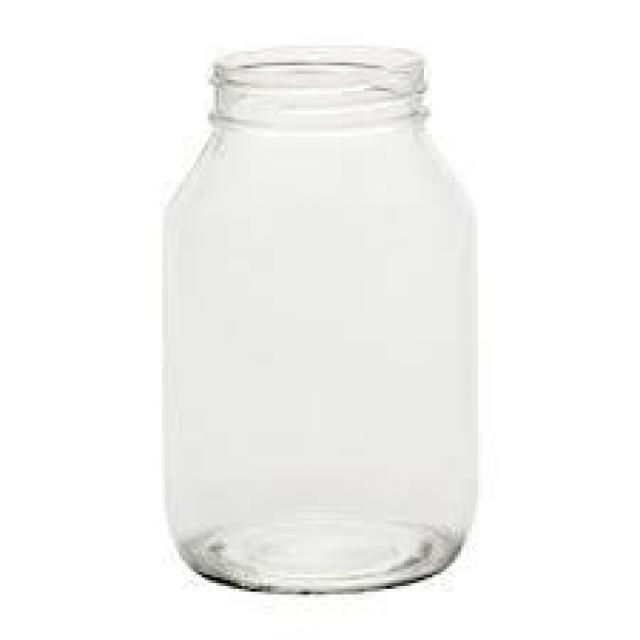non-organic waste: (154, 34, 489, 600)
